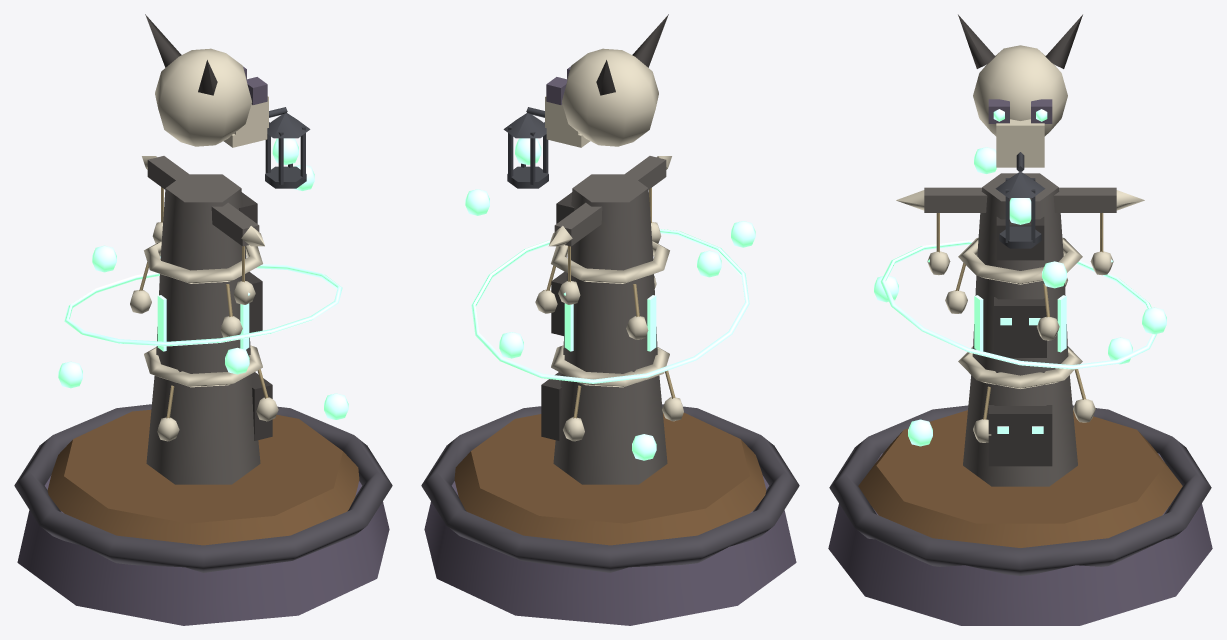
The model's file is tower_necromancer_soulLegion.glb.
3 views of the same model, side by side, from view 1: azimuth 30°, elevation 25°; view 2: azimuth 150°, elevation 25°; view 3: azimuth 270°, elevation 25° (orthographic).
Visible parts, largest first — view 1: grave_soil, base, base_rim, pole_0, skull_cranium, pole_2, pole_1, wisp_orbit, crossbar, bone_ring_1, bone_ring_0, pole_face_0 (+9 smaller); view 2: grave_soil, base, base_rim, pole_0, skull_cranium, pole_1, pole_2, wisp_orbit, crossbar, bone_ring_1, bone_ring_0, pole_face_0 (+11 smaller); view 3: grave_soil, base, base_rim, pole_0, skull_cranium, pole_2, pole_face_0, pole_1, crossbar, pole_face_1, wisp_orbit, bone_ring_0 (+14 smaller).
Part boxes in pixels (x1,y1,x2,y2): grave_soil: [47, 409, 359, 545]; base: [17, 475, 389, 625]; base_rim: [14, 404, 392, 572]; pole_0: [146, 374, 260, 484]; skull_cranium: [155, 48, 251, 146]; pole_2: [160, 174, 246, 270]; pole_1: [156, 257, 250, 373]; wisp_orbit: [64, 264, 342, 346]; crossbar: [147, 156, 259, 246]; bone_ring_1: [144, 241, 262, 283]; bone_ring_0: [144, 345, 262, 387]; pole_face_0: [252, 372, 272, 440]; grave_soil: [454, 412, 766, 545]; base: [424, 475, 796, 625]; base_rim: [421, 404, 799, 572]; pole_0: [553, 374, 667, 484]; skull_cranium: [562, 48, 658, 146]; pole_1: [563, 257, 657, 373]; pole_2: [567, 174, 653, 270]; wisp_orbit: [471, 229, 749, 383]; crossbar: [554, 156, 666, 246]; bone_ring_1: [551, 241, 669, 283]; bone_ring_0: [551, 345, 669, 387]; pole_face_0: [541, 372, 561, 440]; grave_soil: [858, 410, 1182, 547]; base: [828, 453, 1212, 625]; base_rim: [829, 405, 1211, 575]; pole_0: [963, 375, 1077, 486]; skull_cranium: [973, 45, 1067, 136]; pole_2: [977, 173, 1063, 270]; pole_face_0: [988, 405, 1052, 466]; pole_1: [972, 258, 1068, 375]; crossbar: [924, 187, 1116, 212]; pole_face_1: [994, 297, 1046, 357]; wisp_orbit: [880, 240, 1156, 369]; bone_ring_0: [958, 346, 1082, 388].
Size of the model in its own units: 0.398 by 0.5985 by 0.4.
